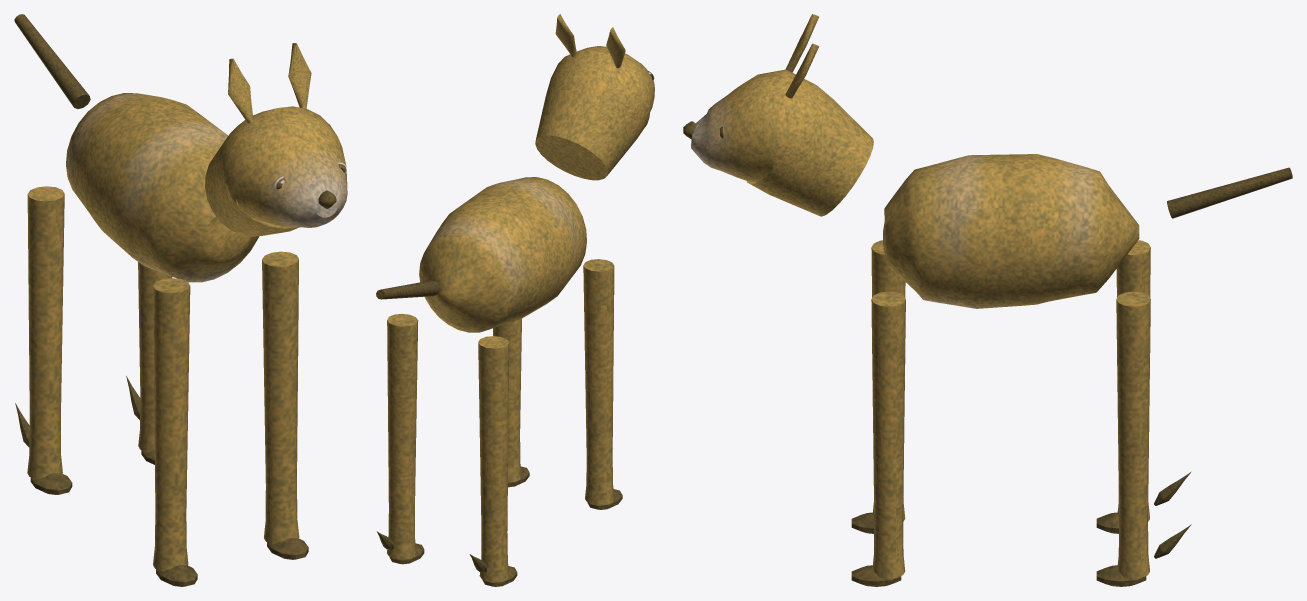
Rendered from sp_sunabashiri-72n6ezhz.glb.
3 renders of one model, left to right at view 1: azimuth 30°, elevation 25°; view 2: azimuth 150°, elevation 25°; view 3: azimuth 270°, elevation 25°, orthographic. The views are drawn at different scales.
Visible parts, largest first — view 1: Legs, Body, HeadMesh, HeadExtras, TailMesh, HeelSpurs; view 2: Legs, Body, HeadMesh, HeadExtras, TailMesh; view 3: Body, Legs, HeadMesh, TailMesh, HeadExtras.
Boxes of the visible parts, x1,y1,x2,y2 form: Legs: (27, 186, 308, 586); Body: (66, 93, 258, 282); HeadMesh: (205, 106, 347, 236); HeadExtras: (228, 43, 311, 123); TailMesh: (14, 14, 90, 108); HeelSpurs: (15, 376, 140, 447); Legs: (387, 259, 622, 586); Body: (419, 177, 586, 332); HeadMesh: (535, 46, 654, 180); HeadExtras: (555, 14, 625, 68); TailMesh: (376, 280, 439, 299); Body: (883, 154, 1139, 308); Legs: (851, 240, 1150, 586); HeadMesh: (683, 69, 873, 216); TailMesh: (1167, 167, 1292, 218); HeadExtras: (785, 14, 818, 98).
Bounding box in the file's own units: 0.2631 × 0.9573 × 0.9959.
Materials: 1 (1 with a texture image).
